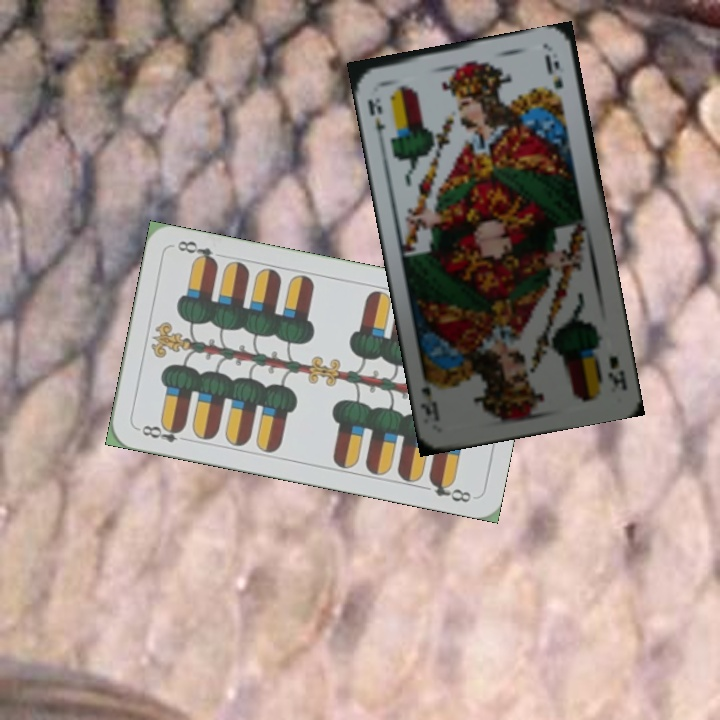E8: (133, 419, 192, 445)
EK: (364, 93, 387, 142), (604, 351, 629, 394)
